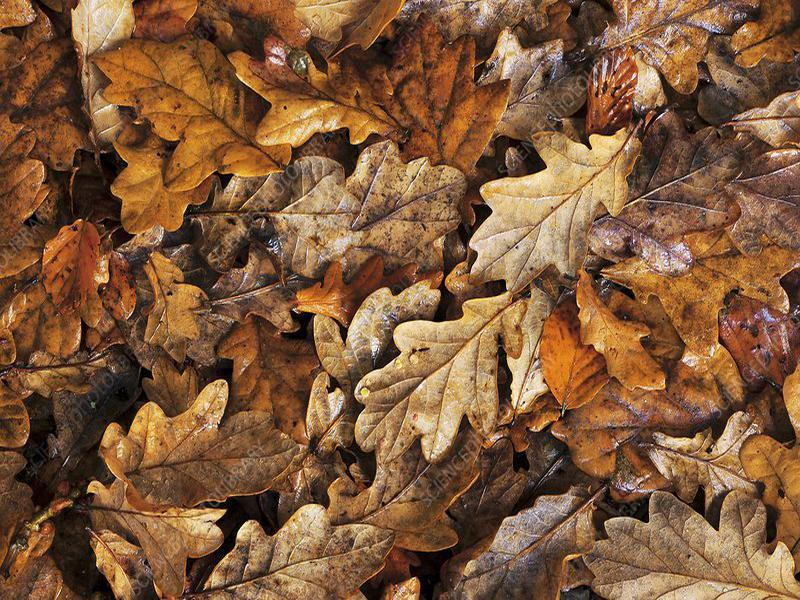leaf: (343, 288, 544, 474), (84, 32, 303, 195), (464, 113, 649, 297), (315, 16, 521, 177), (576, 460, 800, 600), (93, 376, 316, 514), (263, 134, 471, 280), (429, 480, 607, 600), (186, 501, 401, 600), (565, 266, 687, 397), (127, 245, 225, 369), (36, 211, 116, 320)
